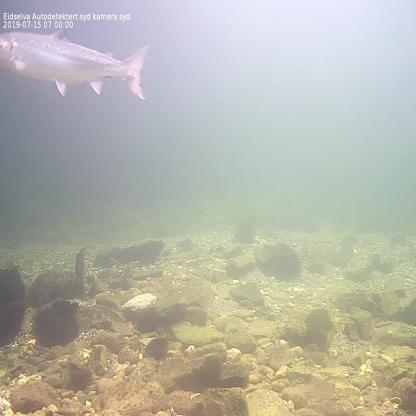salmon: (0, 28, 151, 103)
